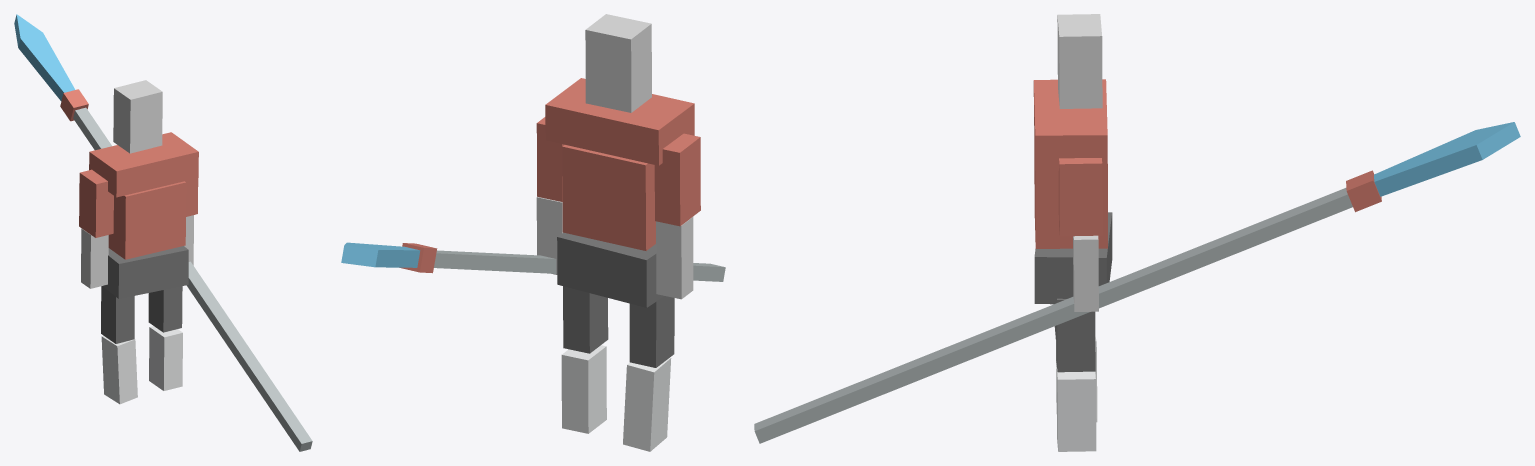
File: spearman.gltf
3 renders of one model, left to right at view 1: azimuth 30°, elevation 25°; view 2: azimuth 150°, elevation 25°; view 3: azimuth 270°, elevation 25°, orthographic. The views are drawn at different scales.
Parts seen in each view (by area): view 1: Cube (×15); view 2: Cube (×15); view 3: Cube (×11).
Boxes of the visible parts, bbox=[...] form: Cube (×15): bbox=[14, 14, 312, 451]; Cube (×15): bbox=[341, 14, 725, 451]; Cube (×11): bbox=[754, 14, 1520, 451].
Size of the model in its own units: 2.75 by 7.48 by 12.8.
